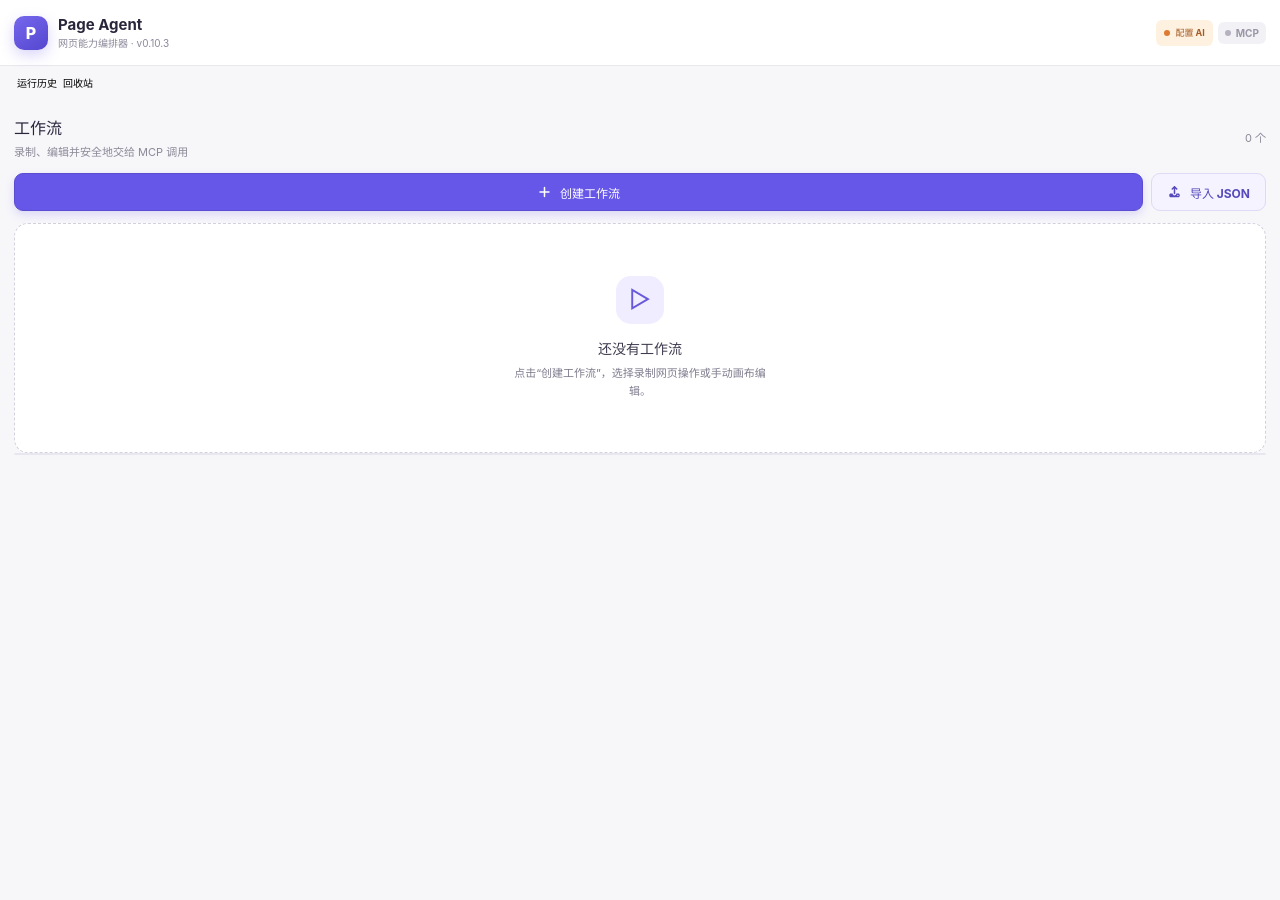
Test: workflow-first side panel › keeps the creation choices available when recording cannot start
Click the button "创建工作流" at (578, 192), box [14, 173, 1143, 211]
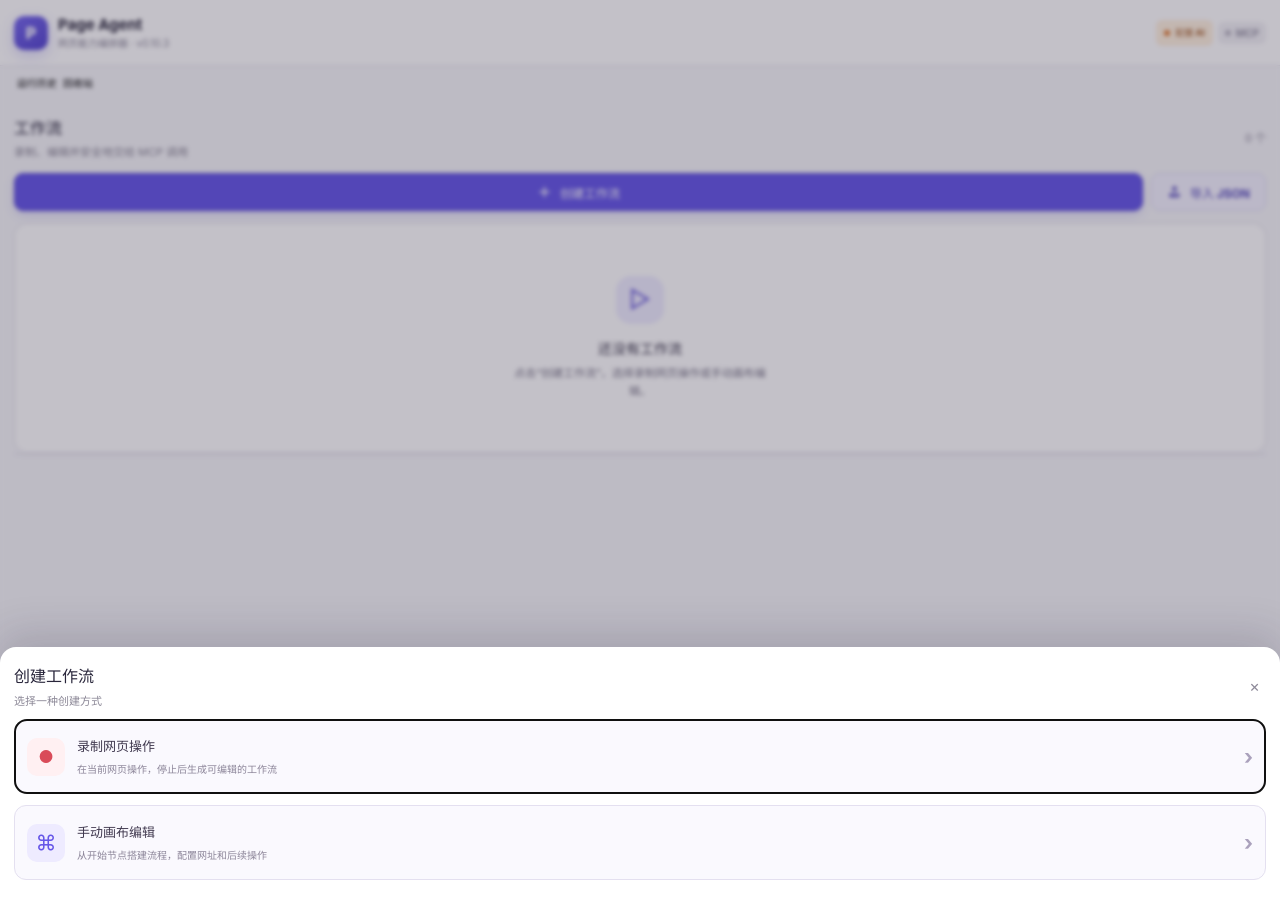
Click the button with class "creation-choice" that starts with "录制网页操作" at (46, 756), box [14, 719, 1266, 794]
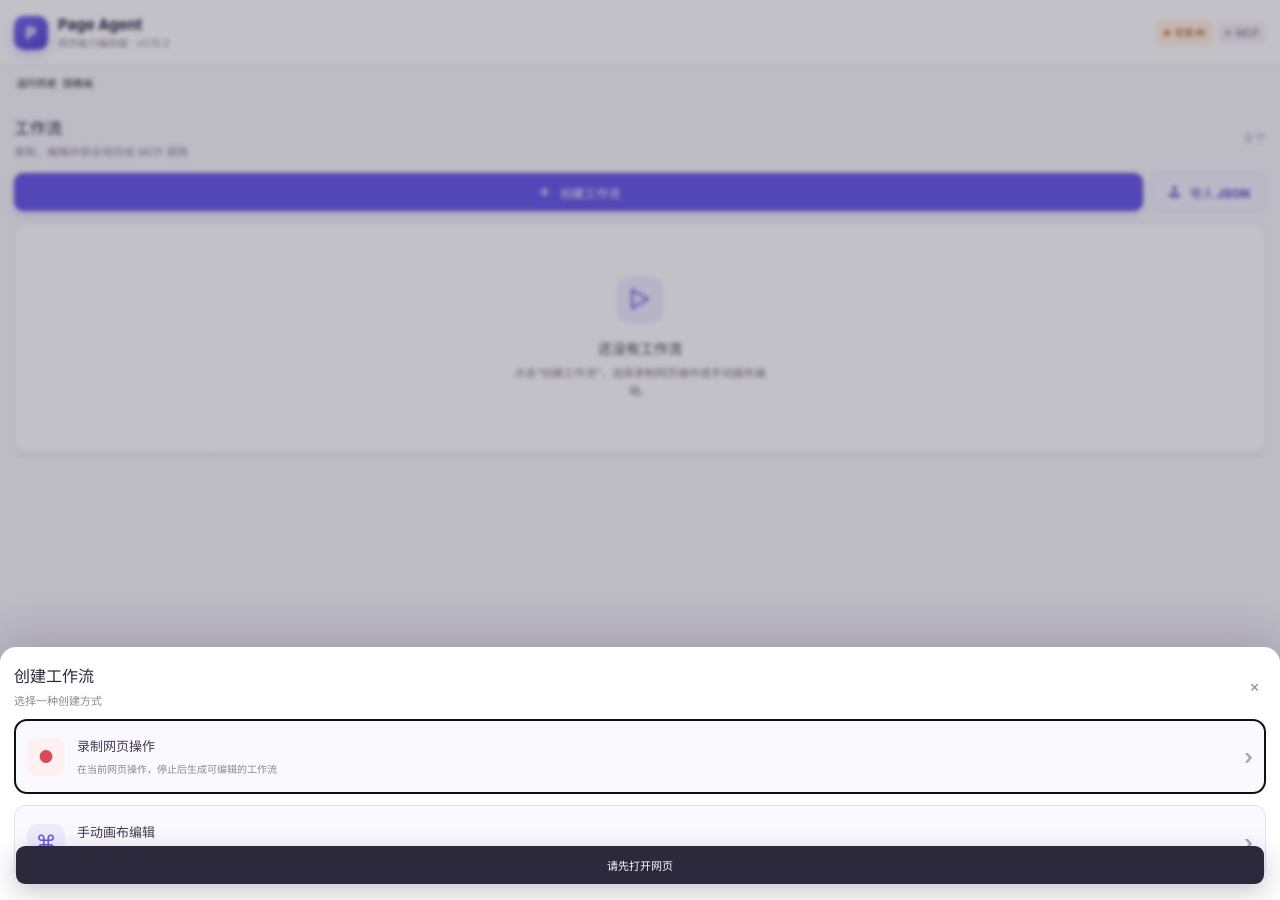
Check: the dialog is shown, box [0, 647, 1279, 899]
Check: the text "请先打开网页" is shown, box [16, 846, 1264, 884]
